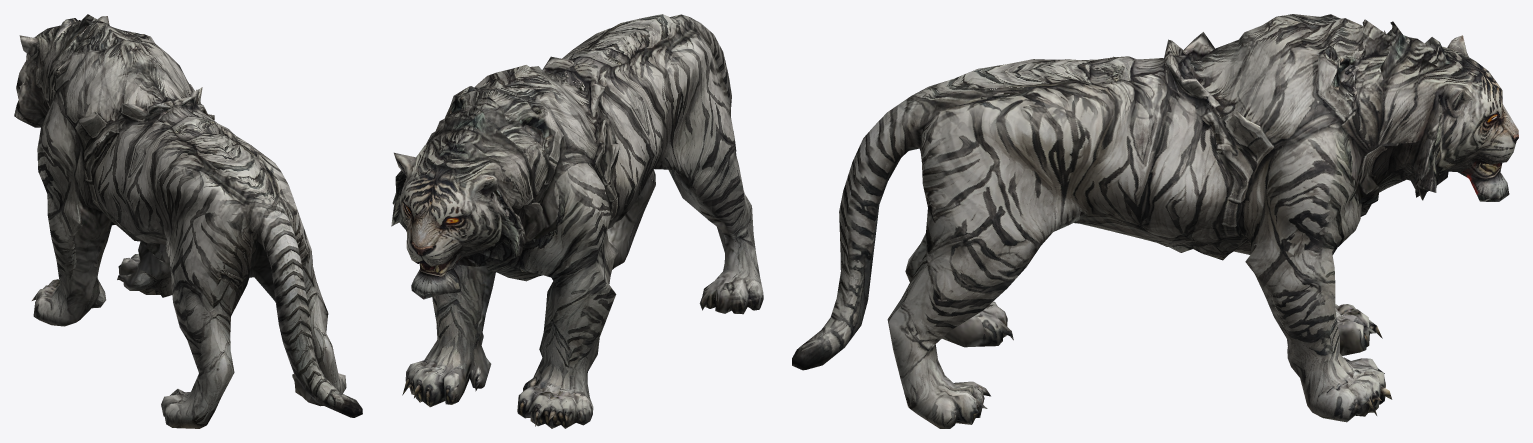
The model's file is WhiteTiger.glb.
3 views of the same model, side by side, from view 1: azimuth 30°, elevation 25°; view 2: azimuth 150°, elevation 25°; view 3: azimuth 270°, elevation 25° (orthographic). The views are drawn at different scales.
Parts seen in each view (by area): view 1: texture_mapping; view 2: texture_mapping; view 3: texture_mapping.
Part boxes in pixels (x1,y1,x2,y2): texture_mapping: (14, 14, 362, 428); texture_mapping: (391, 14, 763, 428); texture_mapping: (792, 14, 1518, 428).
Size of the model in its own units: 0.3558 by 0.5485 by 0.9987.
Materials: 1 (1 with a texture image).
